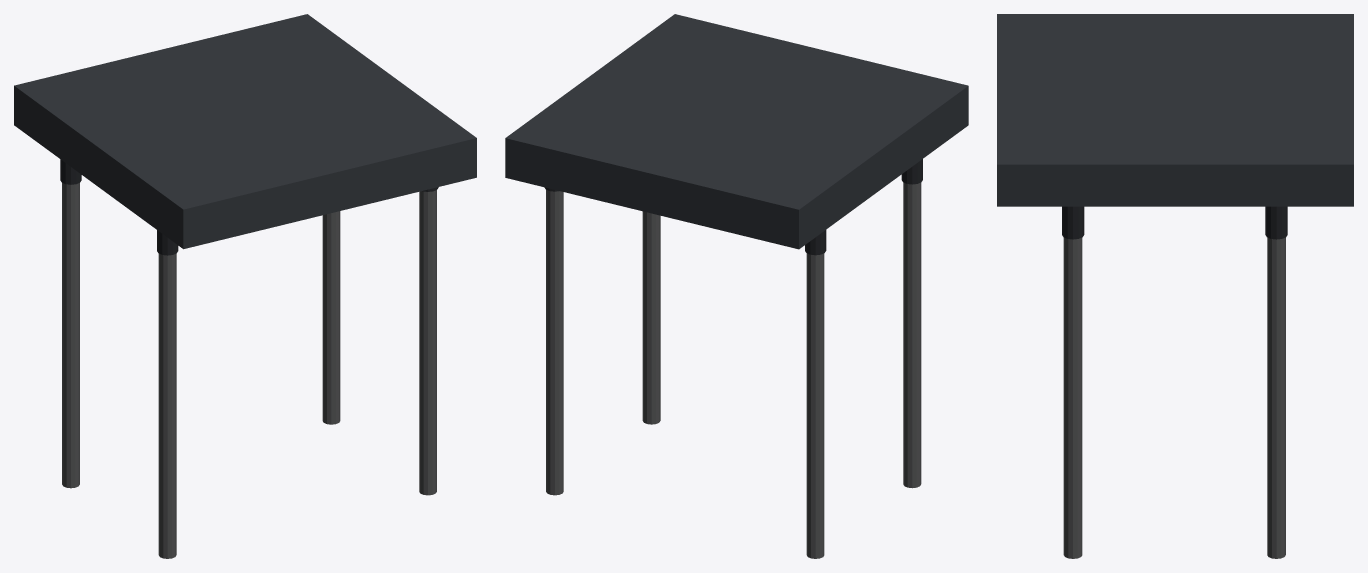
The model's file is PortGround_1.fbx.
3 views of the same model, side by side, from view 1: azimuth 30°, elevation 25°; view 2: azimuth 150°, elevation 25°; view 3: azimuth 270°, elevation 25° (orthographic). The views are drawn at different scales.
Parts seen in each view (by area): view 1: PortGround_1; view 2: PortGround_1; view 3: PortGround_1.
Part boxes in pixels (left/top/right/bottom): PortGround_1: left=14, top=14, right=476, bottom=558; PortGround_1: left=505, top=14, right=968, bottom=558; PortGround_1: left=997, top=14, right=1353, bottom=558.
Size of the model in its own units: 1550 by 1903 by 1550.
